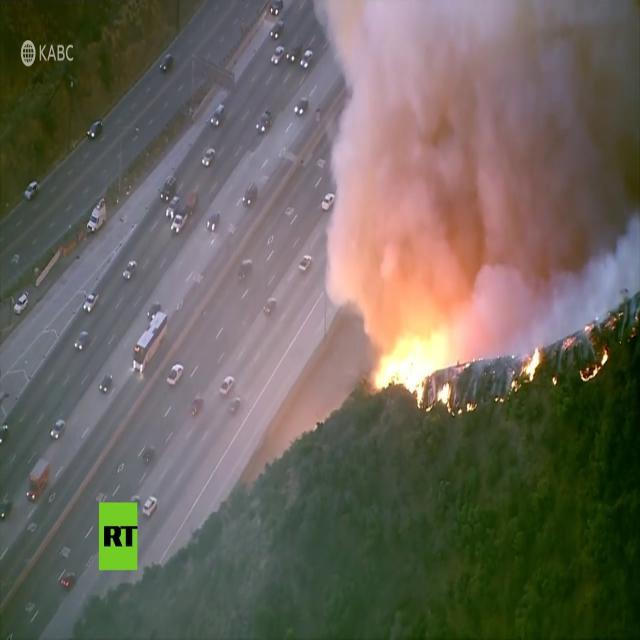Fire: (374, 330, 454, 416), (508, 346, 542, 401), (579, 348, 609, 384)
